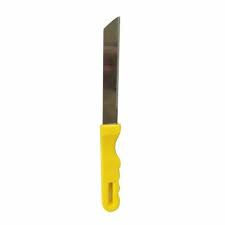Knife: (99, 15, 121, 212)
